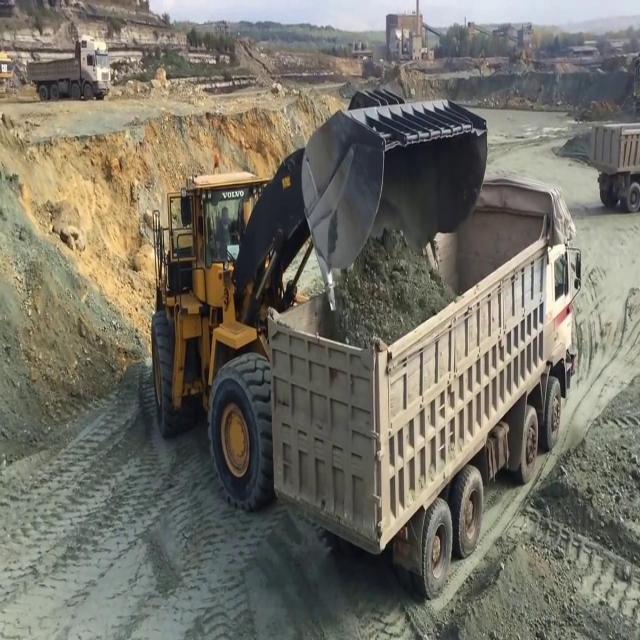Dump Truck: (262, 148, 584, 602), (25, 33, 111, 99), (588, 116, 640, 220)
Loader: (142, 76, 492, 518)
